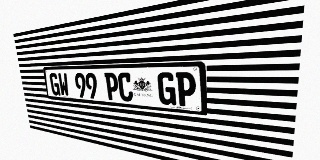9: (85, 73, 99, 99), (74, 73, 87, 98)
C: (117, 72, 134, 102)
G: (157, 72, 176, 106), (49, 73, 61, 96)
P: (176, 72, 196, 107), (104, 73, 119, 101)
W: (58, 73, 70, 97)
